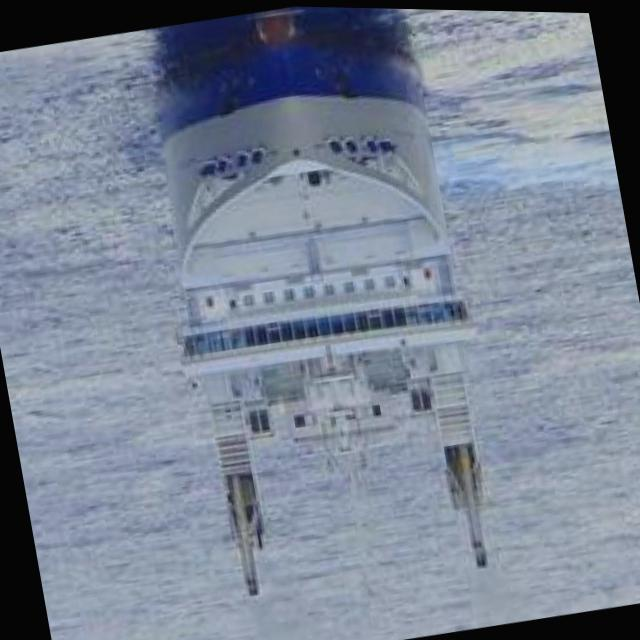ship2: (154, 7, 486, 595)
